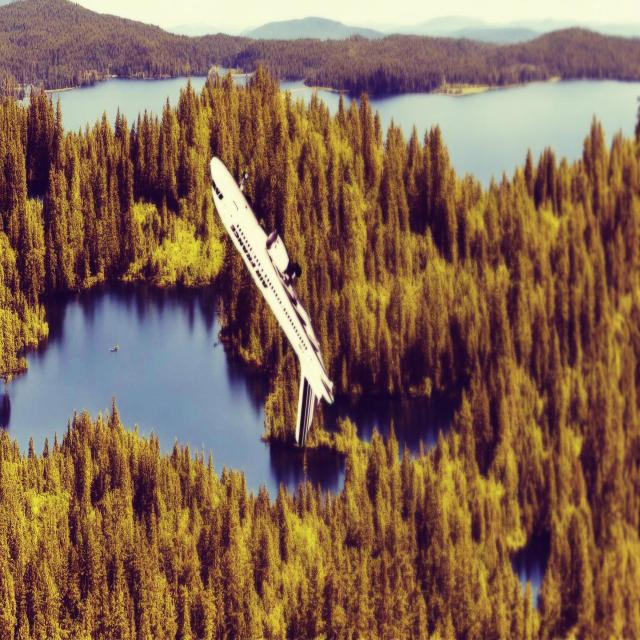airplane: (209, 154, 335, 448)
